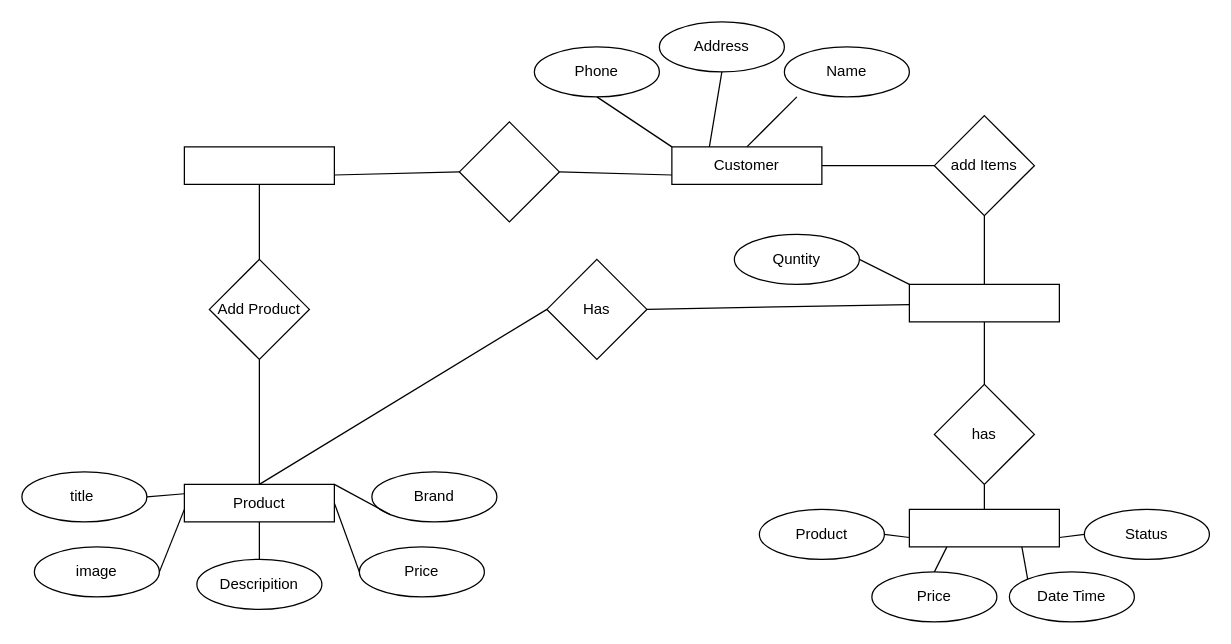
This 1231x644 diagram has some shape labels left out. Here are the shapes that lost their labels. From the top down, the centre of each, then its label:
point 258,165: User
point 508,171: is
point 983,302: Cart
point 983,527: Order Place
